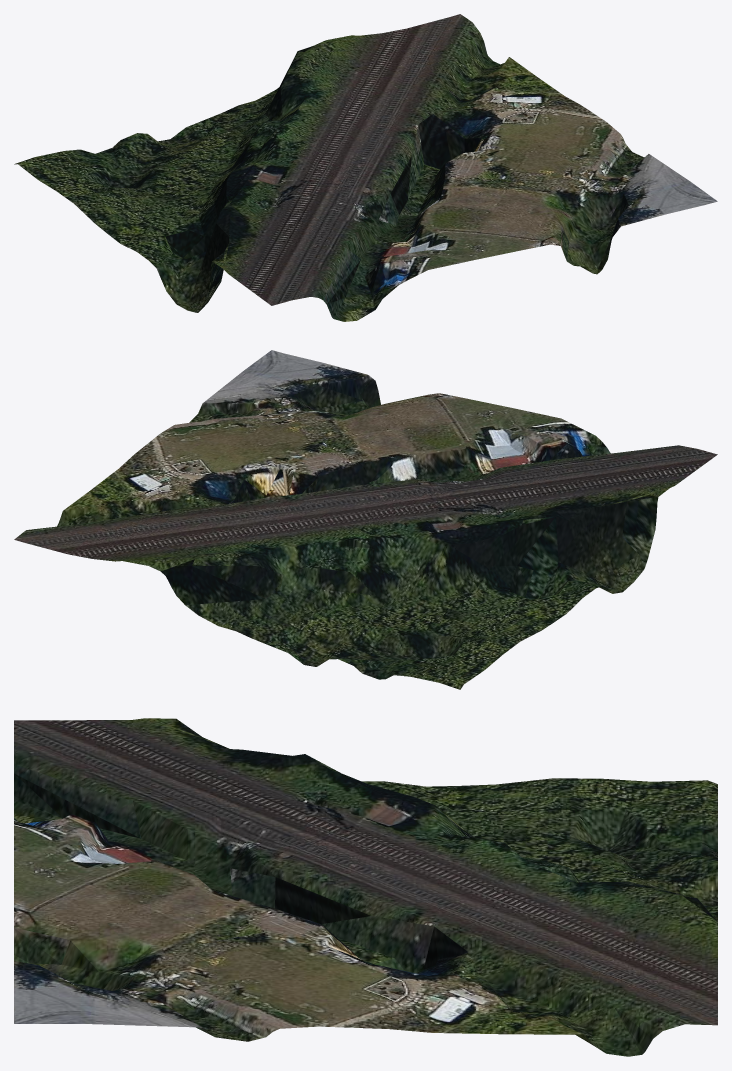
File: map_15_8179_13784.dae
3 renders of one model, top to bottom at view 1: azimuth 30°, elevation 25°; view 2: azimuth 150°, elevation 25°; view 3: azimuth 270°, elevation 25°, orthographic. The views are drawn at different scales.
Parts seen in each view (by area): view 1: Ter0; view 2: Ter0; view 3: Ter0.
Part boxes in pixels (box(x1,y1,x2,y2)): Ter0: box(14, 14, 717, 321); Ter0: box(14, 350, 717, 689); Ter0: box(14, 718, 717, 1056).
Bounding box in the file's own units: 63.87 × 63.88 × 12.1.
2 materials, 2 textured.
